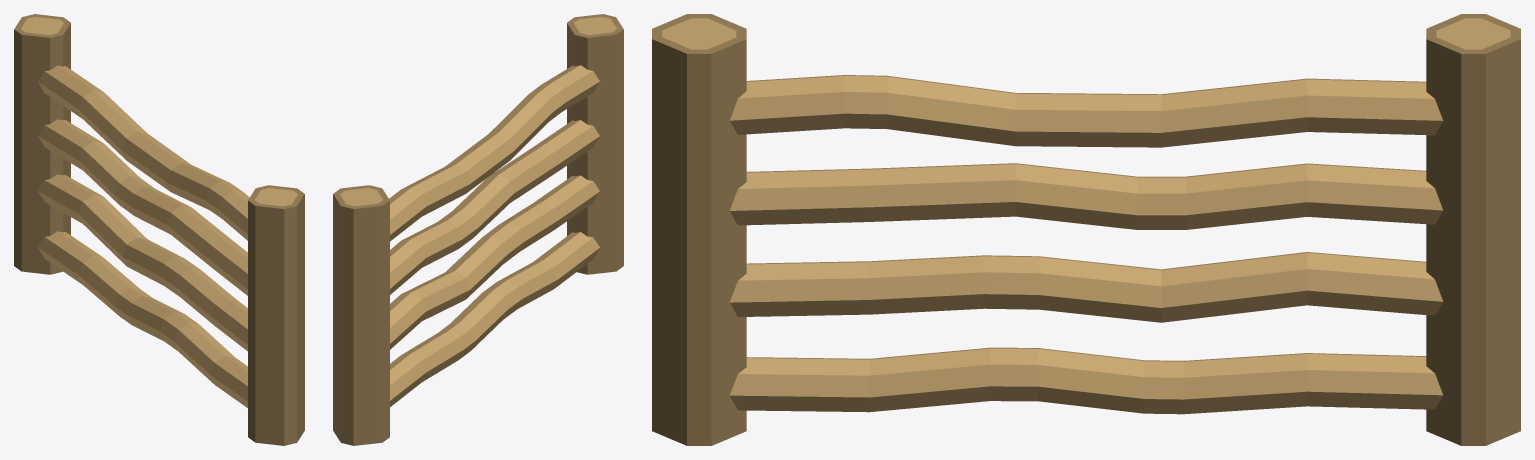
Rendered from fence_short.fbx.
3 views of the same model, side by side, from view 1: azimuth 30°, elevation 25°; view 2: azimuth 150°, elevation 25°; view 3: azimuth 270°, elevation 25° (orthographic). The views are drawn at different scales.
Parts seen in each view (by area): view 1: Cylinder.002; view 2: Cylinder.002; view 3: Cylinder.002.
Part boxes in pixels (box(x1,y1,x2,y2)): Cylinder.002: box(14, 14, 304, 445); Cylinder.002: box(333, 14, 623, 445); Cylinder.002: box(652, 14, 1520, 445).
Size of the model in its own units: 81.06 by 371 by 745.
